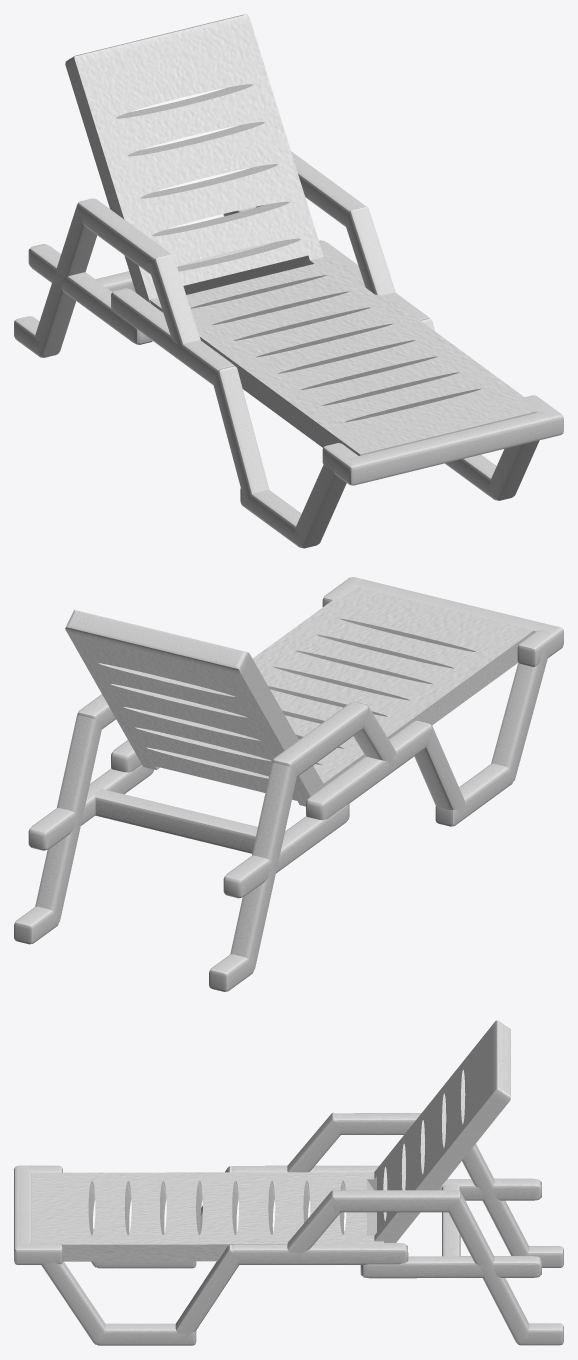
Rendered from sun_lounger_3d.glb.
3 views of the same model, one above another, from view 1: azimuth 30°, elevation 25°; view 2: azimuth 150°, elevation 25°; view 3: azimuth 270°, elevation 25° (orthographic). The views are drawn at different scales.
Visible parts, largest first — view 1: pCube44; view 2: pCube44; view 3: pCube44.
Part boxes in pixels (x1,y1,x2,y2): pCube44: (14,14,563,548); pCube44: (14,577,563,991); pCube44: (14,1020,563,1345).
Bounding box in the file's own units: 82.05 × 112 × 224.
1 material, 1 textured.
